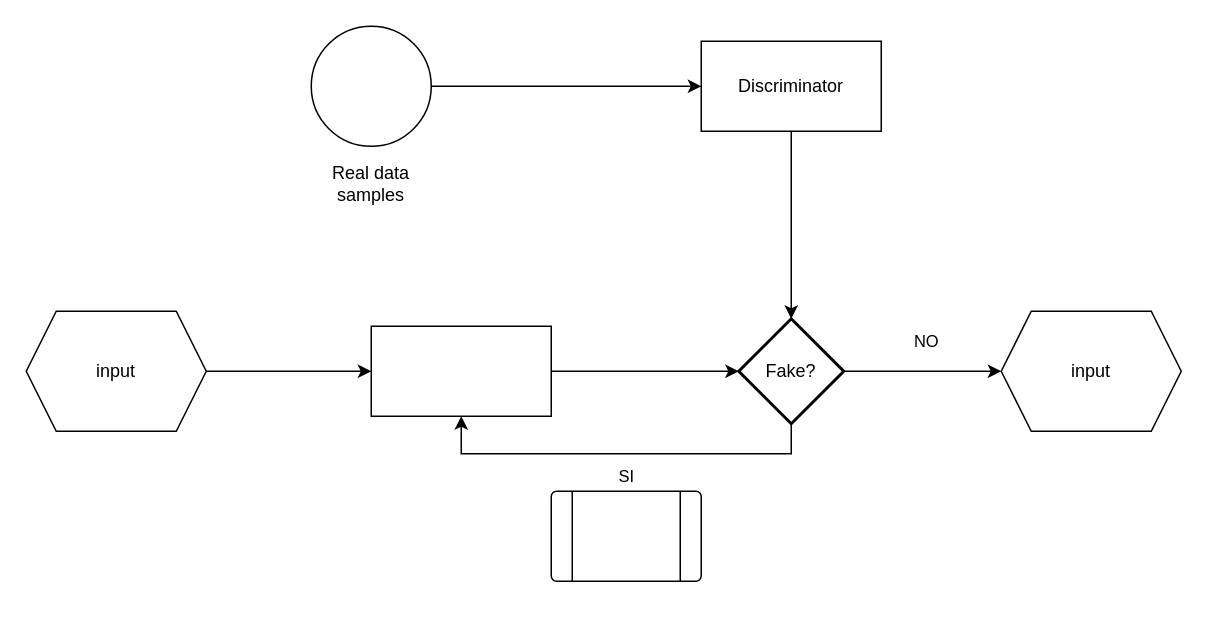
Image size: 1208x639. Some labels were removed from this diagram. The centre of each missing label's shape, as x and y in pixels:
"Fine tuning" belongs at (x=625, y=535).
"Generator" belongs at (x=460, y=370).
